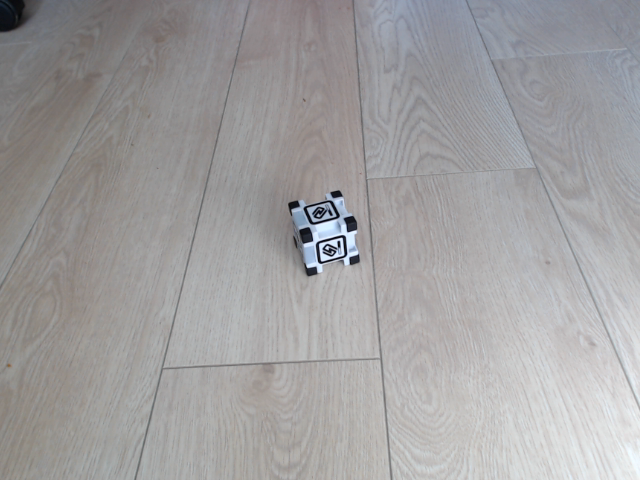block: (286, 189, 362, 278)
